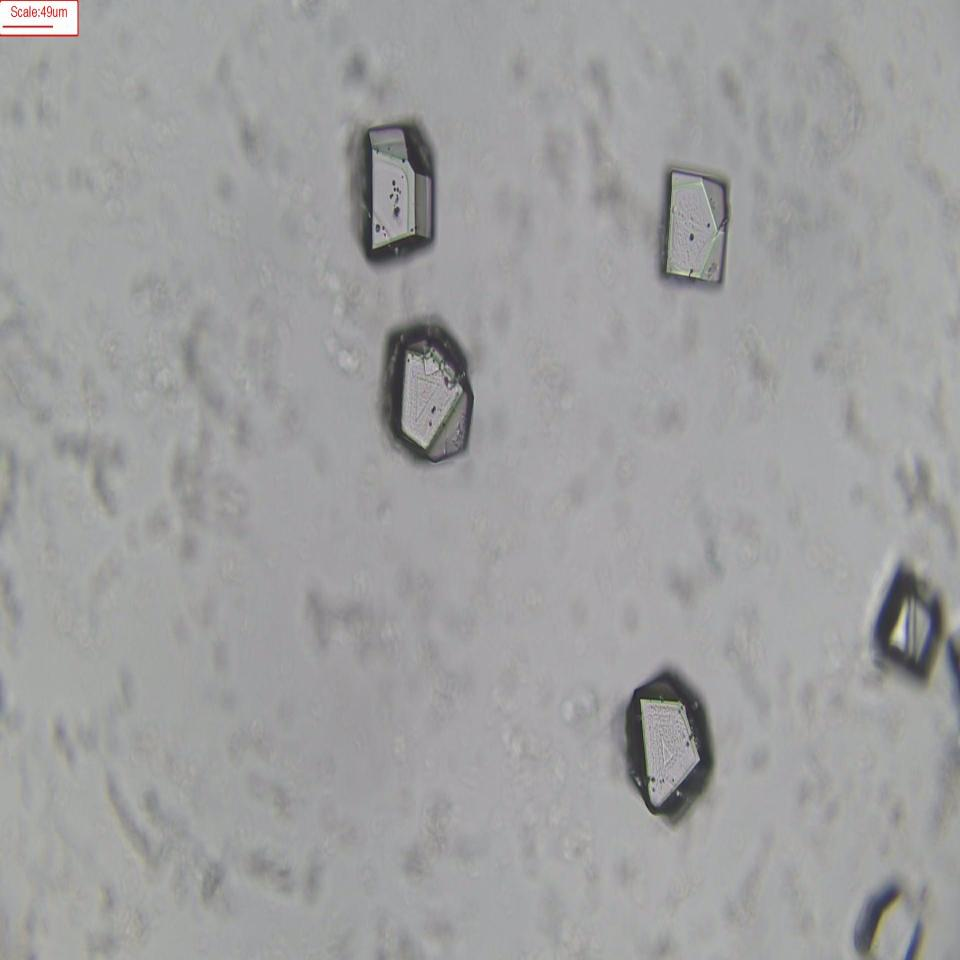crystal: (625, 668, 711, 820), (384, 320, 473, 465), (361, 119, 437, 263), (660, 163, 732, 290), (872, 564, 940, 681)
